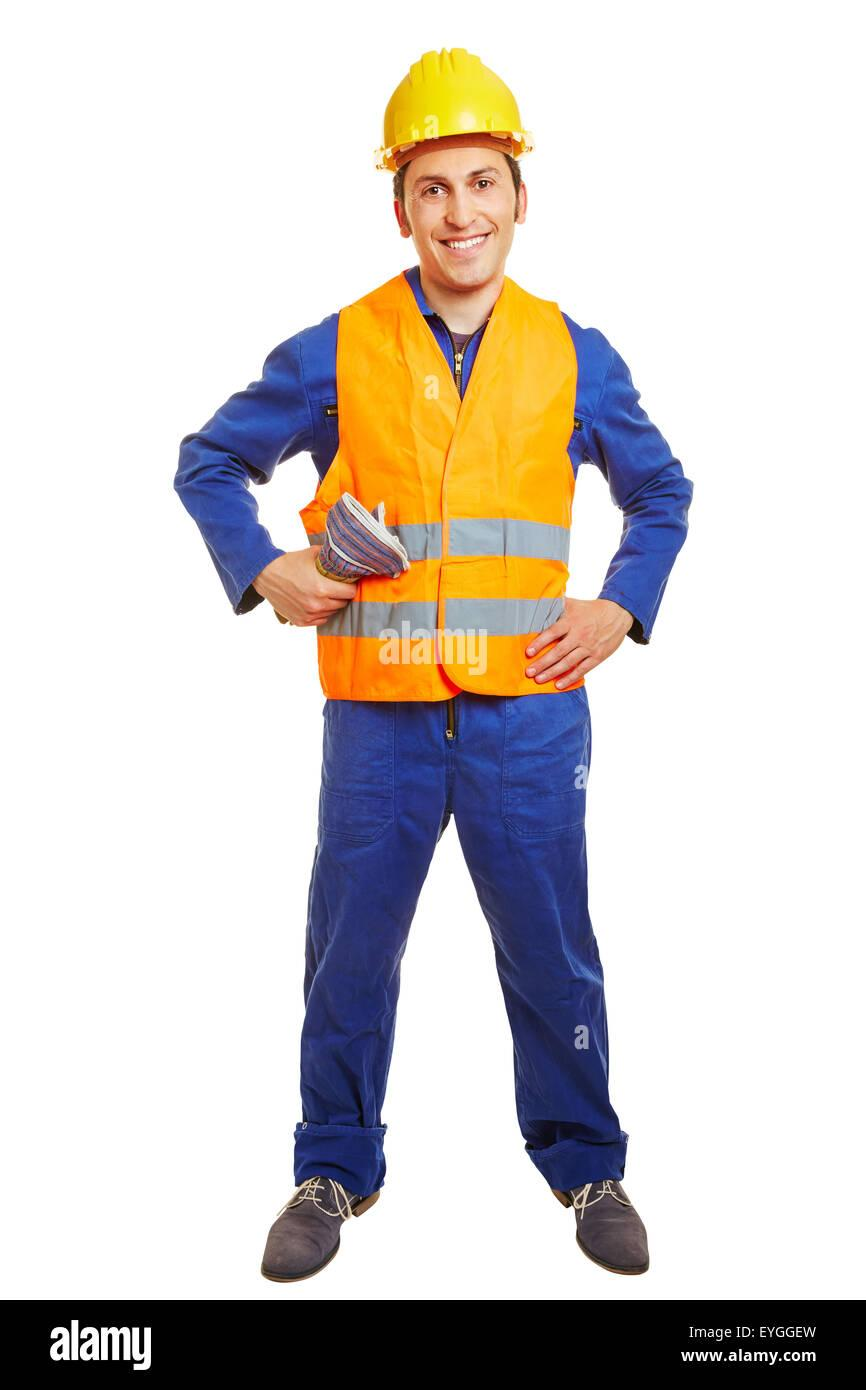hat: (314, 1, 584, 244)
vest: (251, 238, 661, 761)
